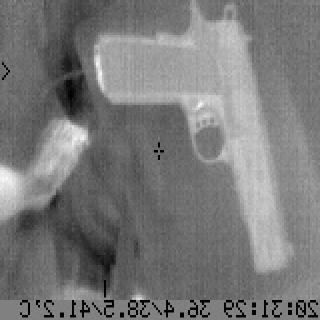Gun: (92, 3, 294, 275)
